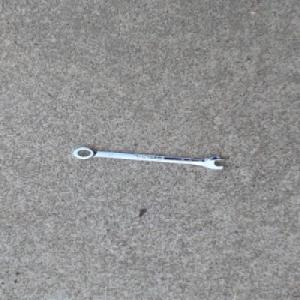Wrench: (70, 146, 227, 171)
